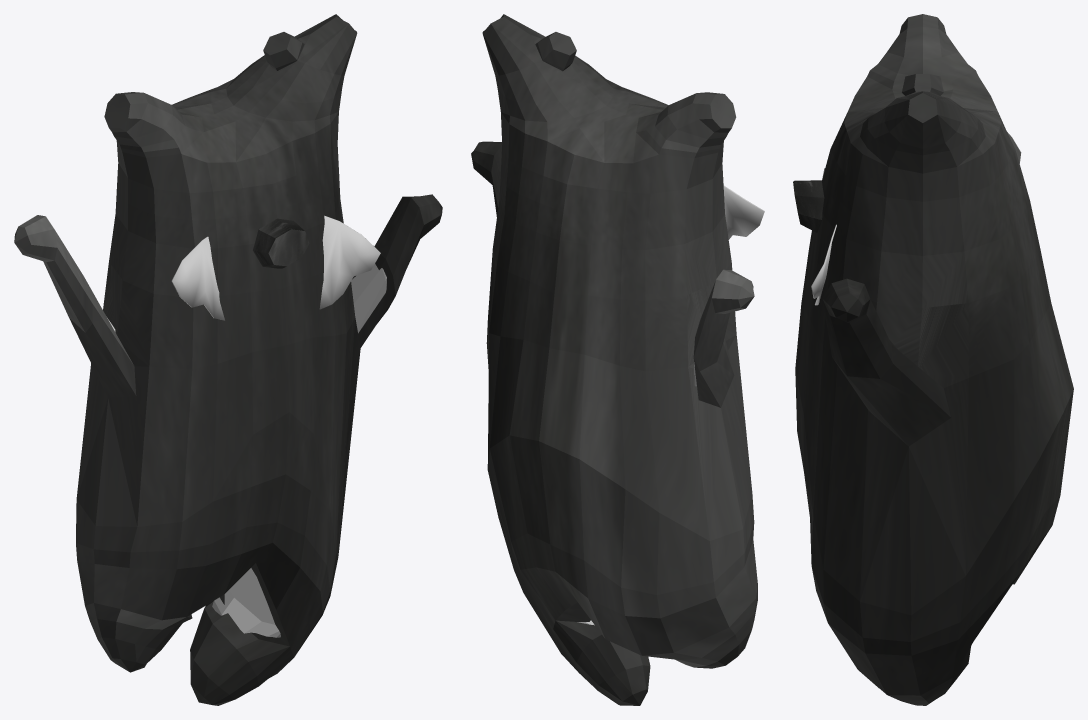
File: frame_0015.obj
3 views of the same model, side by side, from view 1: azimuth 30°, elevation 25°; view 2: azimuth 150°, elevation 25°; view 3: azimuth 270°, elevation 25° (orthographic). The views are drawn at different scales.
Visible parts, largest first — view 1: korok, leaf, nose; view 2: korok, leaf; view 3: korok, nose, leaf.
Boxes of the visible parts, <box> form: korok: <box>14,14,442,705</box>; leaf: <box>171,215,380,320</box>; nose: <box>253,218,309,268</box>; korok: <box>471,14,757,705</box>; leaf: <box>723,185,764,239</box>; korok: <box>795,14,1073,705</box>; nose: <box>793,180,824,232</box>; leaf: <box>811,168,836,305</box>.
Bounding box in the file's own units: 1.78 × 3.14 × 1.19.
